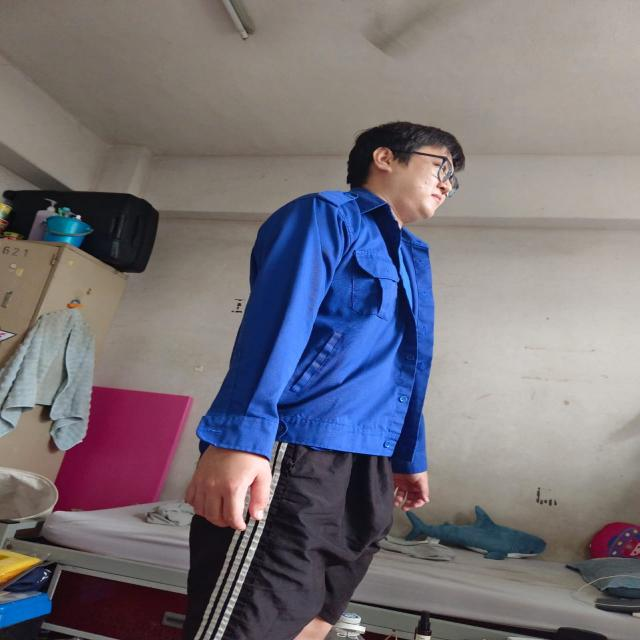person_with_labcoat: (184, 122, 464, 640)
